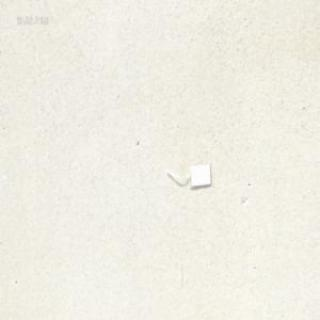LuggageTagtrack_idkeyframe: (165, 160, 212, 188)
